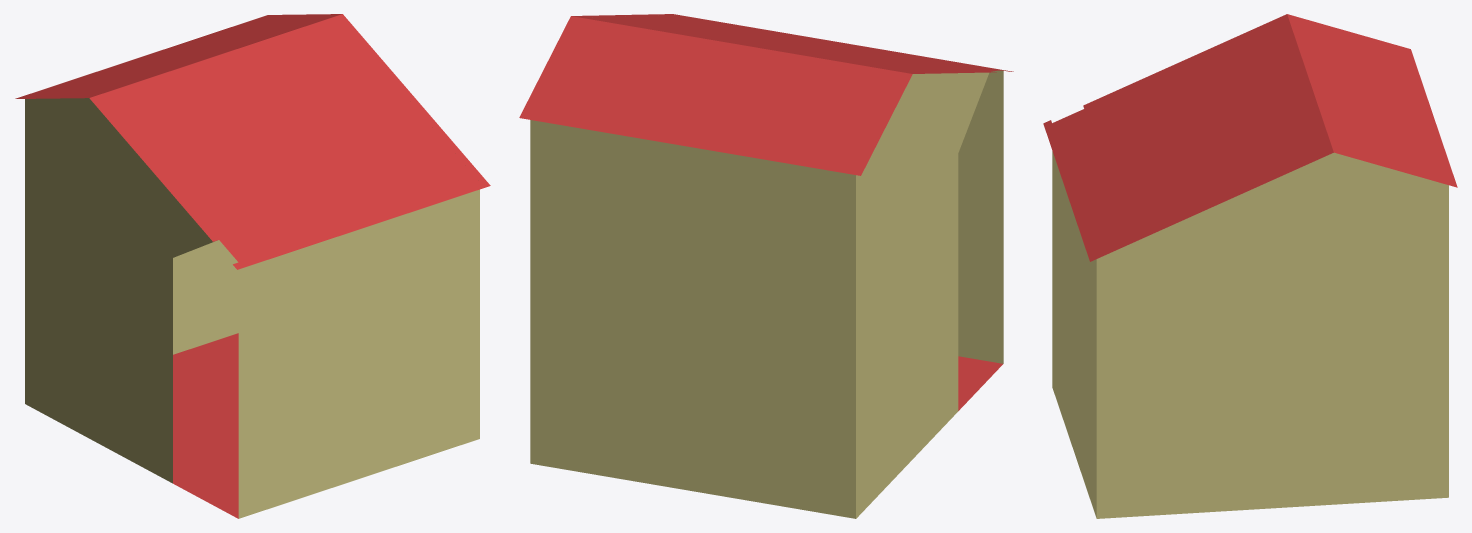
3 renders of one model, left to right at view 1: azimuth 30°, elevation 25°; view 2: azimuth 150°, elevation 25°; view 3: azimuth 270°, elevation 25°, orthographic. The views are drawn at different scales.
Bounding box in the file's own units: 12.07 × 13.16 × 12.44.
